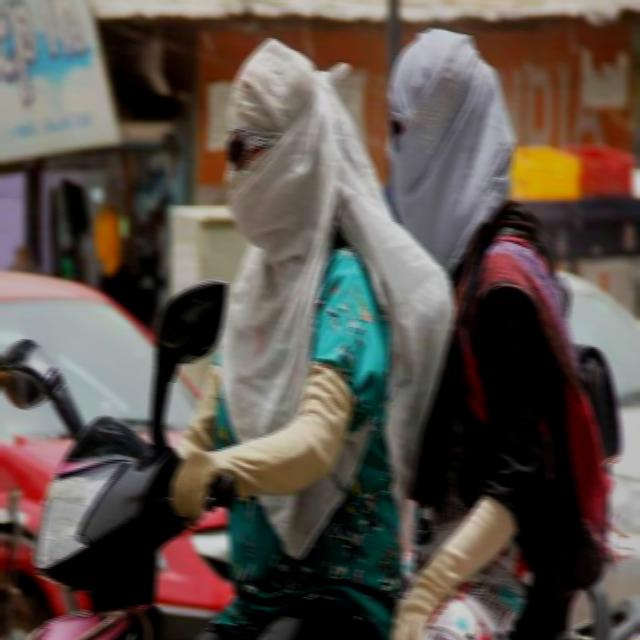Without Helmet: (211, 28, 351, 256)
